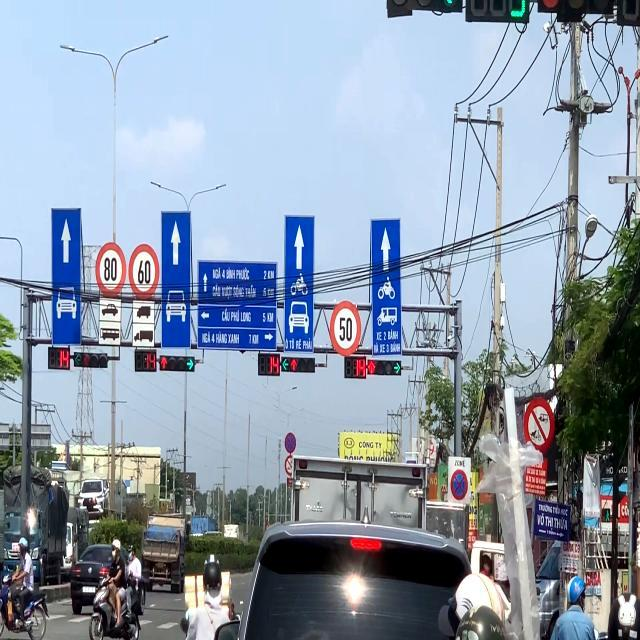Cam dung xe va do xe: (450, 468, 468, 501), (285, 432, 297, 454)
Toc do toi da cho phep: (128, 240, 160, 303), (95, 240, 128, 299), (332, 297, 359, 358)
